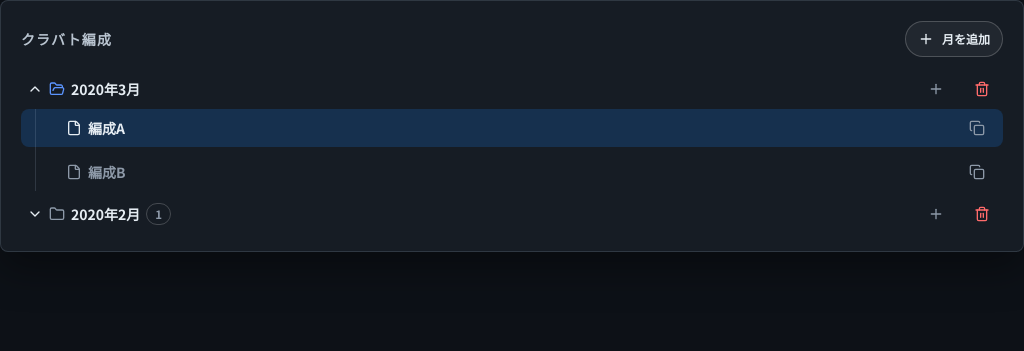
Test: ClanBattleSidebar（インライン編成追加） › インライン入力欄は同時に1つだけで、別の月の＋を押すと入力内容を引き継がない
The width and height of the screenshot is (1024, 351).
Click the button named "2020年3月に編成を追加" at (936, 89), box [915,74,957,104]
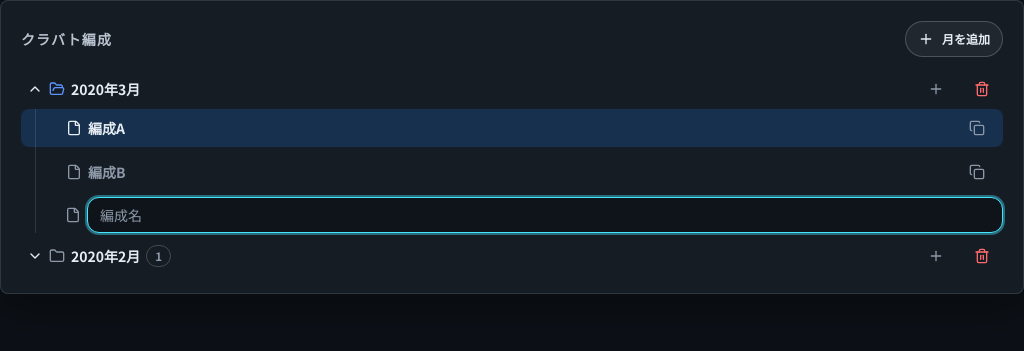
Type "8月の編成" into the field labelled "編成名" at (545, 215), box [87,197,1003,233]
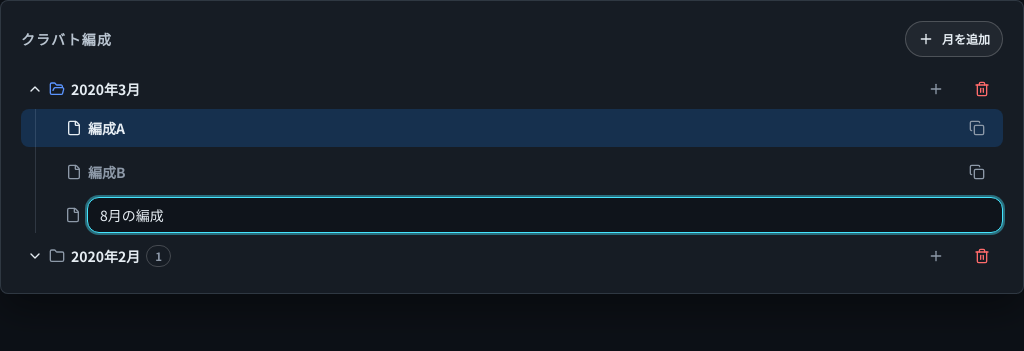
Click the button named "2020年2月に編成を追加" at (936, 256), box [915,241,957,271]
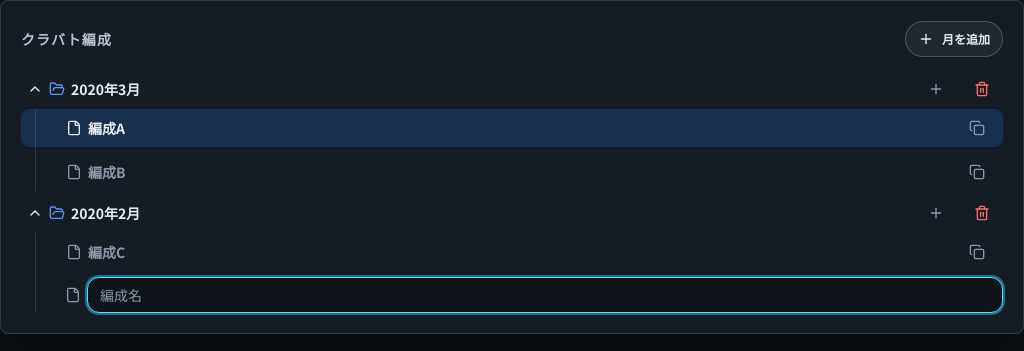
Check: the number of fields labelled "編成名" is 1, box [87,277,1003,313]
Check: the field labelled "編成名" is empty, box [87,277,1003,313]
